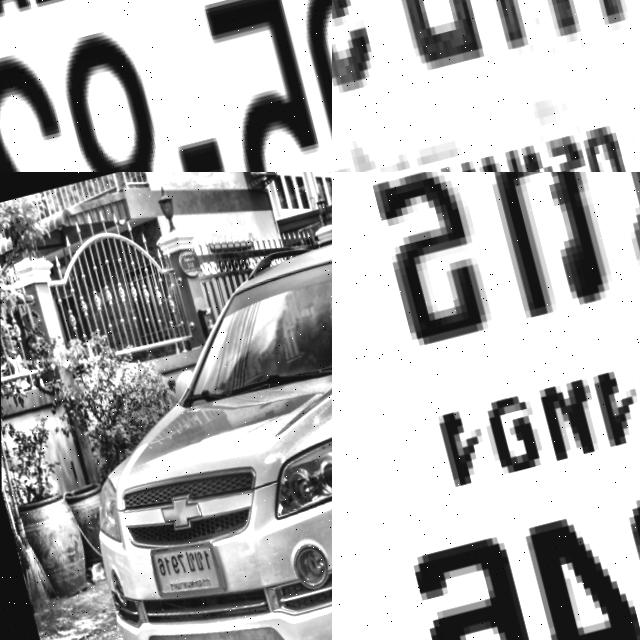license-plate: (332, 172, 640, 640), (0, 0, 332, 172), (332, 0, 640, 172), (143, 531, 231, 614)
